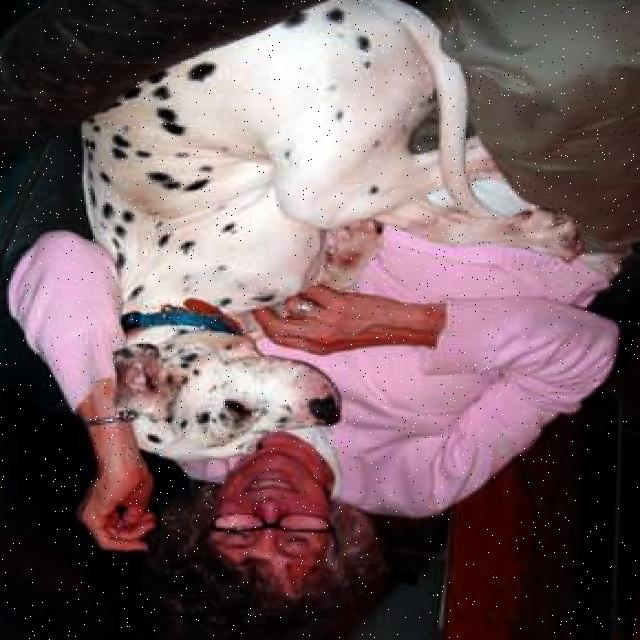Dog: (115, 316, 340, 467)
